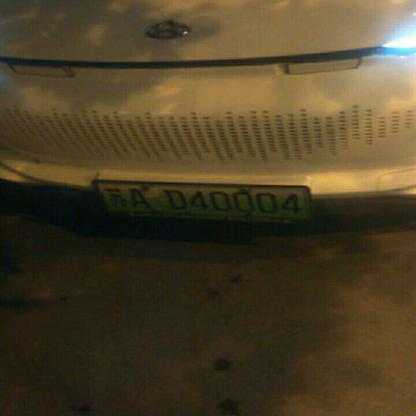lp: (97, 181, 306, 218)
